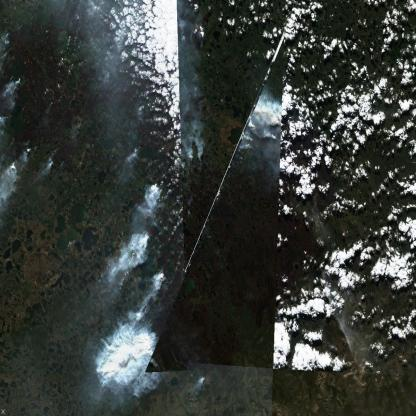fire: (122, 153, 181, 385), (231, 80, 305, 157), (1, 141, 28, 180)
